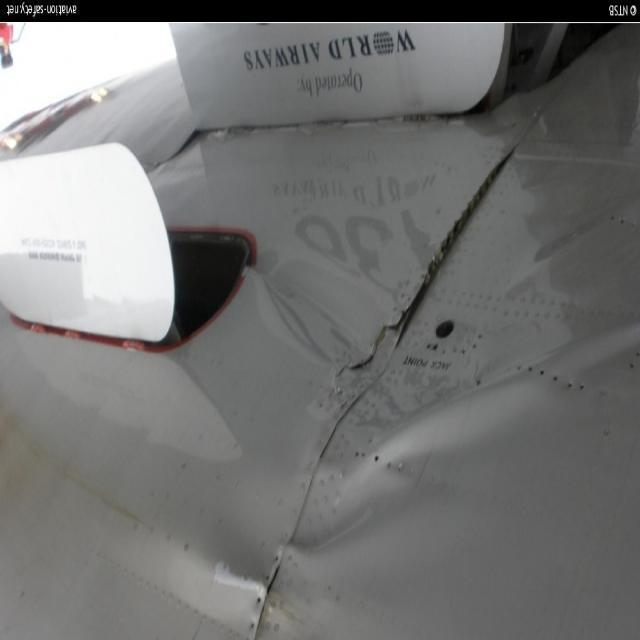crack: (329, 306, 409, 389)
dent: (290, 318, 640, 567)
